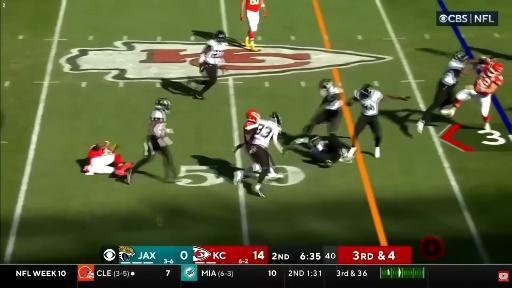Helmet: (355, 84, 374, 99), (155, 98, 171, 113), (487, 63, 503, 76), (78, 266, 94, 278), (246, 109, 260, 122), (453, 51, 469, 62), (270, 112, 281, 126), (319, 79, 334, 89), (215, 30, 227, 42), (309, 136, 321, 147)
Jersey: (252, 120, 281, 148), (474, 65, 503, 92), (356, 90, 383, 115), (200, 40, 227, 65), (441, 59, 465, 85), (321, 87, 341, 110), (149, 111, 166, 138), (88, 146, 112, 160), (244, 121, 256, 146), (246, 0, 260, 11), (315, 140, 328, 151)
Player: (347, 84, 410, 158), (441, 57, 503, 130), (417, 51, 471, 133), (127, 98, 176, 184), (250, 112, 284, 197), (302, 79, 342, 147), (189, 31, 228, 99), (302, 79, 342, 135), (233, 110, 261, 184), (285, 135, 347, 167), (83, 142, 132, 176), (240, 0, 267, 51)
